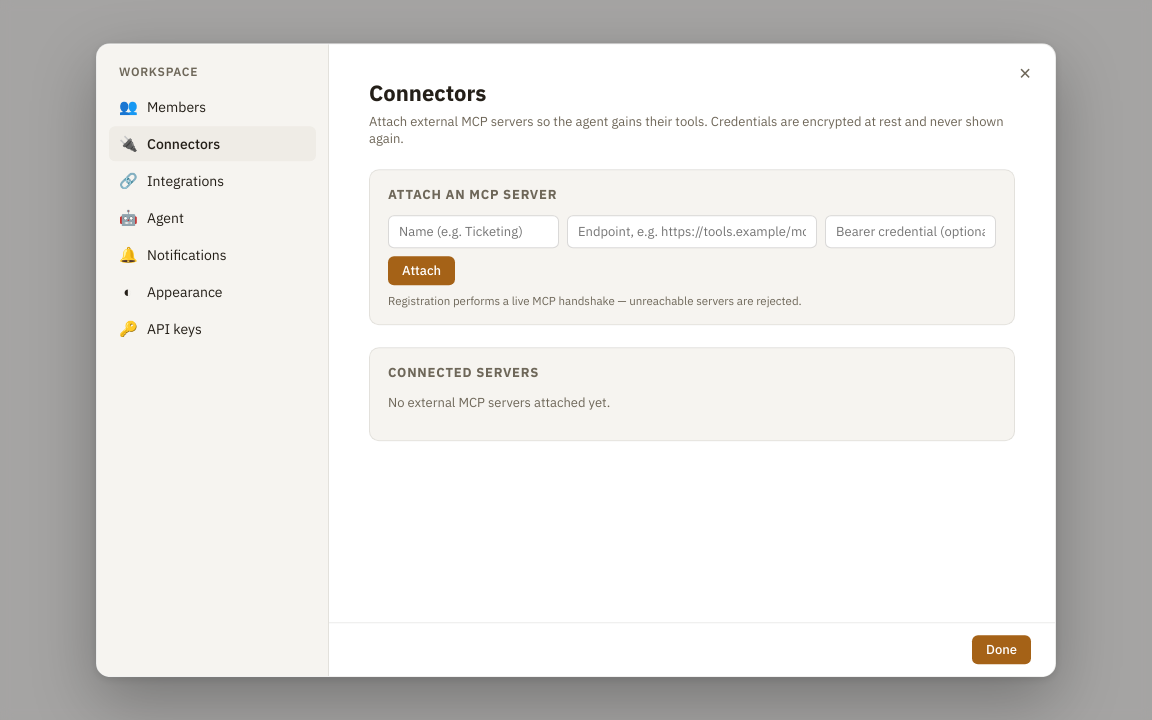
Scenario: SettingsModal › members tab hides role and remove controls from non-owners
Click the button with test id "settings-tab-members". click: (212, 107)
box: [109,89,316,124]
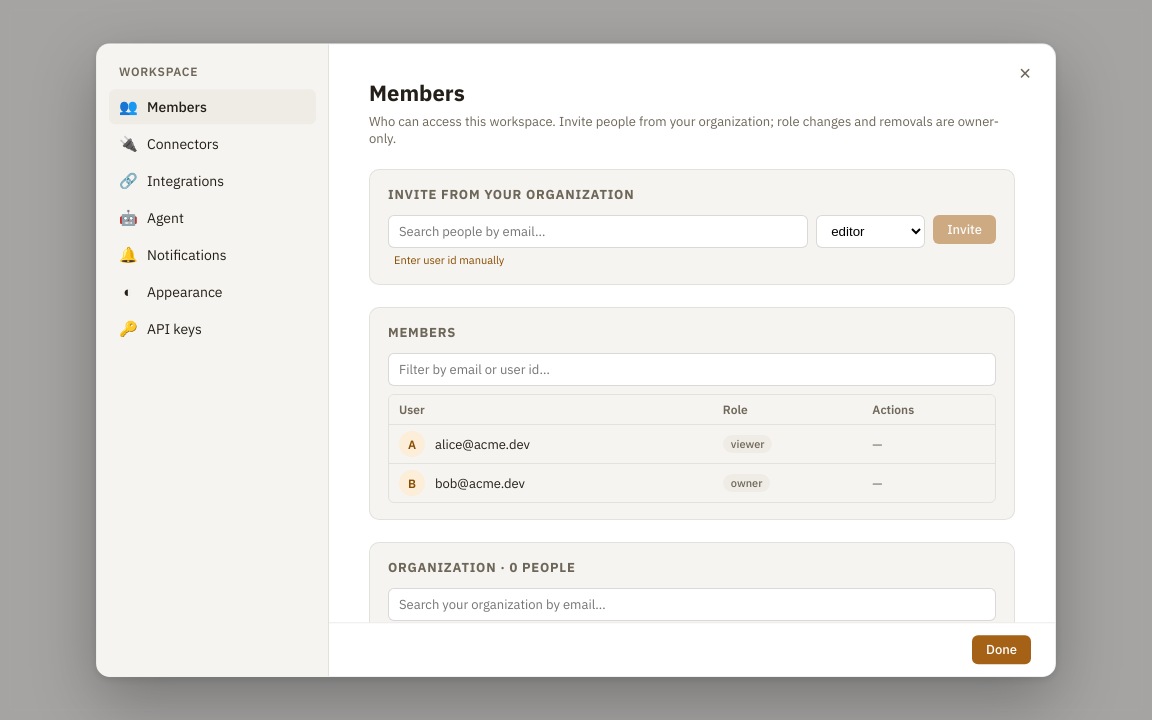
Check: the number of rows with test id "member-row" is 2, box [389,425,995,464]; [389,464,995,502]
